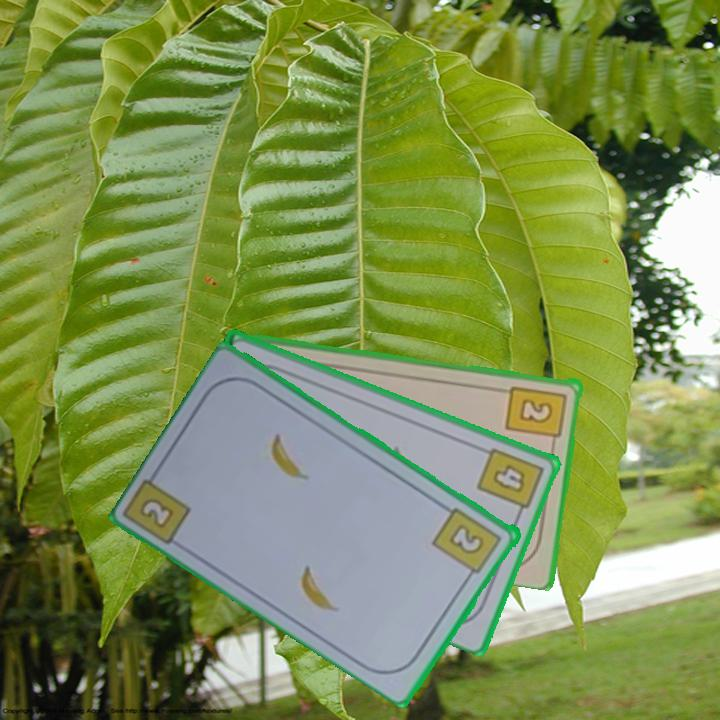2b: (429, 504, 505, 583), (503, 381, 570, 449), (139, 497, 174, 528)
4b: (473, 443, 547, 520)
